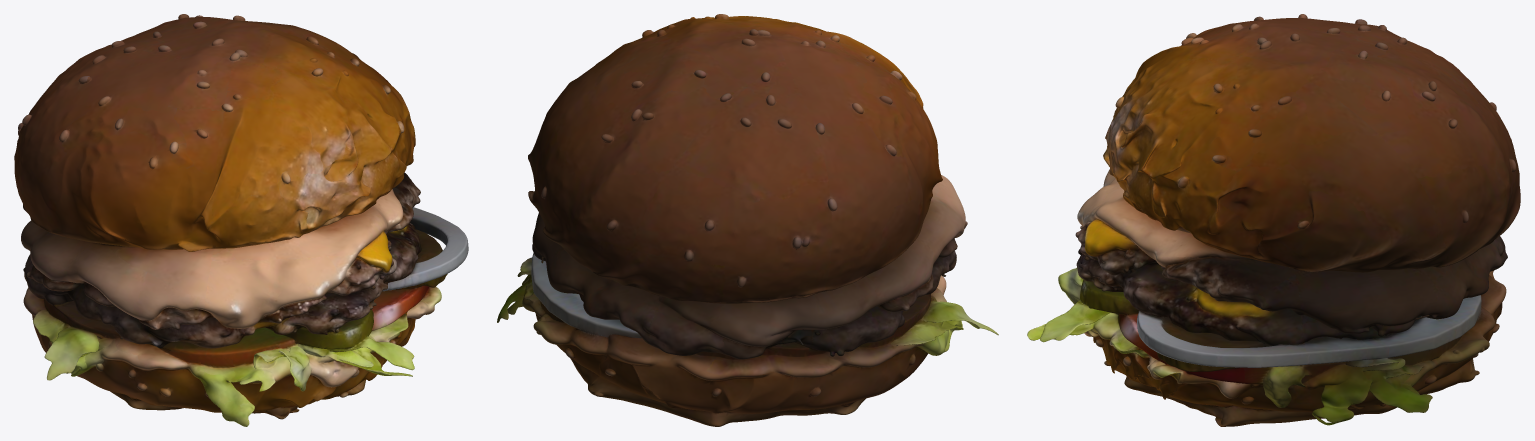
File: hamburguer-blackout-fixo.glb
The picture shows the model from 3 angles, left to right: view 1: azimuth 30°, elevation 25°; view 2: azimuth 150°, elevation 25°; view 3: azimuth 270°, elevation 25°; orthographic projection. The views are drawn at different scales.
Visible parts, largest first — view 1: tripo_node_fdbde4fa-7a82-46e0-aa46-09a35e8c473f; view 2: tripo_node_fdbde4fa-7a82-46e0-aa46-09a35e8c473f; view 3: tripo_node_fdbde4fa-7a82-46e0-aa46-09a35e8c473f.
Boxes of the visible parts, box(x1,y1,x2,y2) form: tripo_node_fdbde4fa-7a82-46e0-aa46-09a35e8c473f: box(14, 14, 468, 426); tripo_node_fdbde4fa-7a82-46e0-aa46-09a35e8c473f: box(497, 14, 998, 426); tripo_node_fdbde4fa-7a82-46e0-aa46-09a35e8c473f: box(1027, 14, 1520, 426).
Bounding box in the file's own units: 0.11 × 0.08 × 0.11.
Materials: 1 (1 with a texture image).
